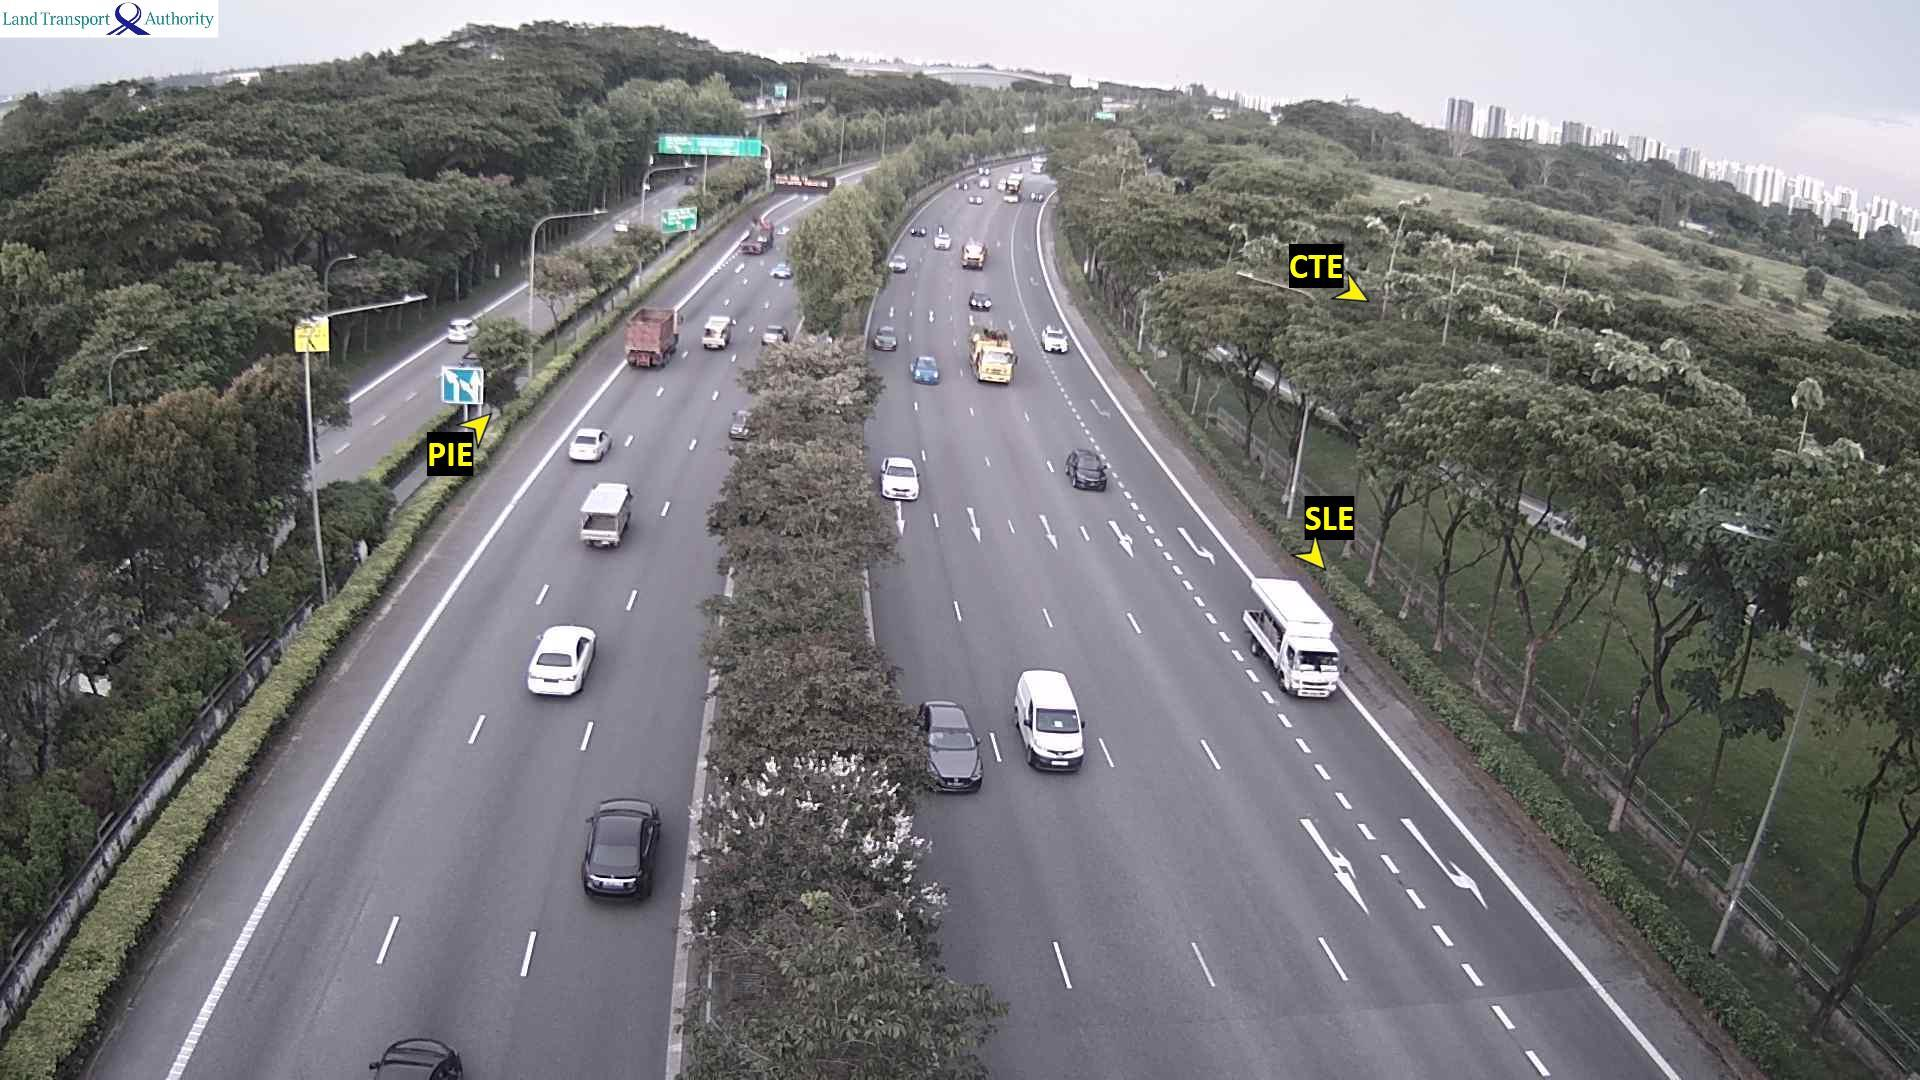incoming: (1282, 618, 1340, 698), (924, 728, 984, 791), (1029, 704, 1085, 770), (882, 462, 920, 501), (977, 347, 1015, 385), (1072, 458, 1110, 492), (913, 357, 942, 385), (874, 326, 897, 352), (960, 244, 982, 268), (968, 294, 994, 313), (1047, 332, 1069, 352), (890, 257, 910, 274), (934, 232, 951, 251)
